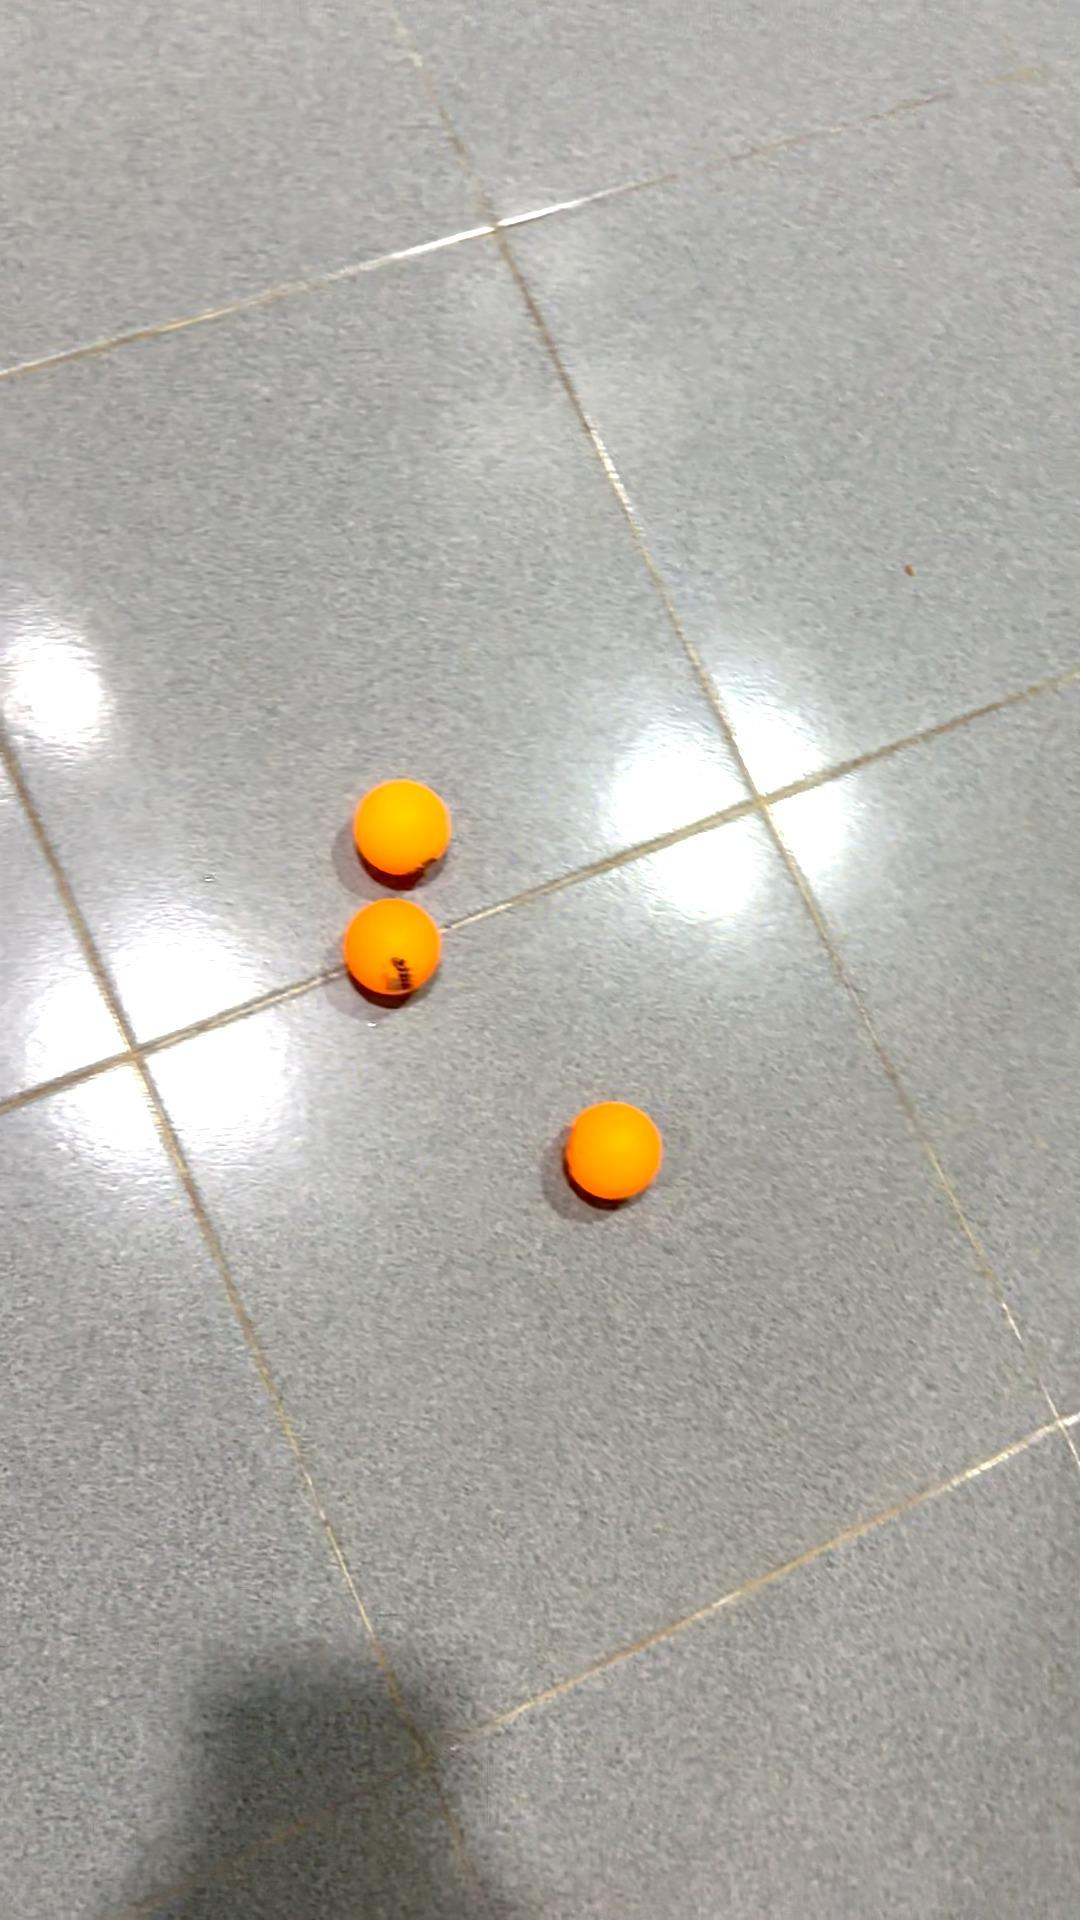oball: (343, 769, 459, 902), (558, 1091, 678, 1215), (335, 898, 455, 1013)
